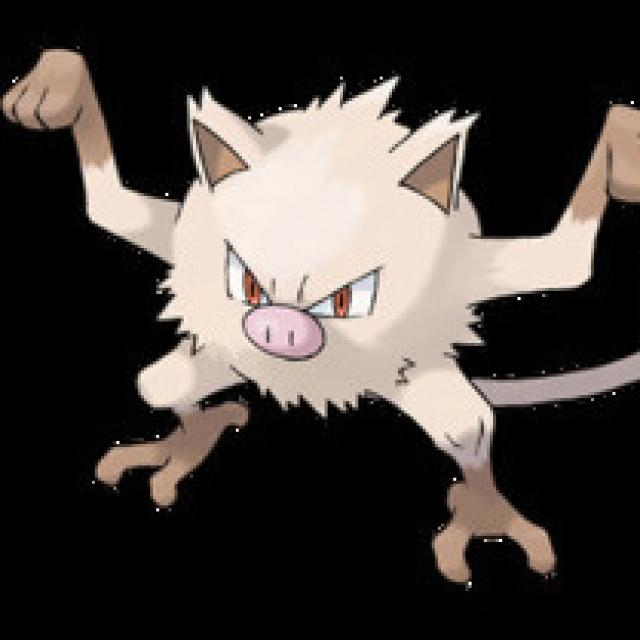Mankey: (74, 82, 606, 510)
